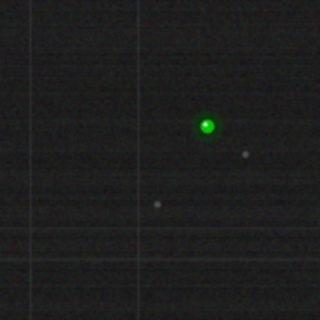green_normal: (198, 117, 216, 135)
